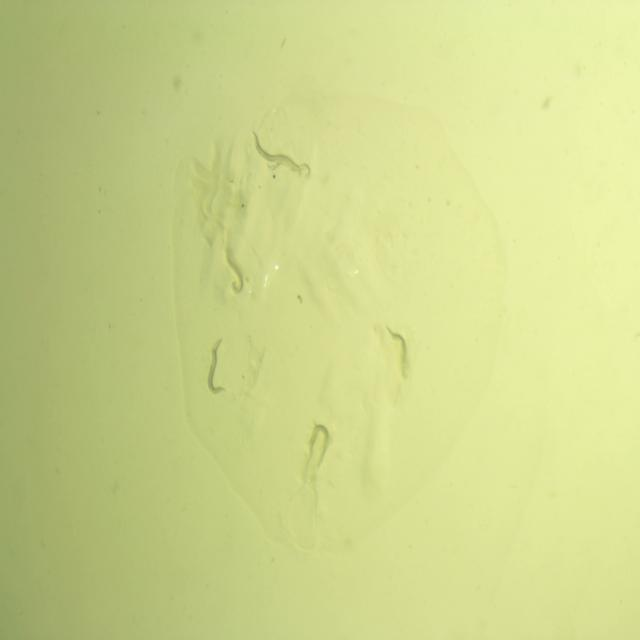worm: (250, 128, 302, 175), (382, 319, 412, 385), (206, 333, 230, 395), (264, 152, 313, 181), (307, 419, 332, 469), (224, 246, 248, 298)
